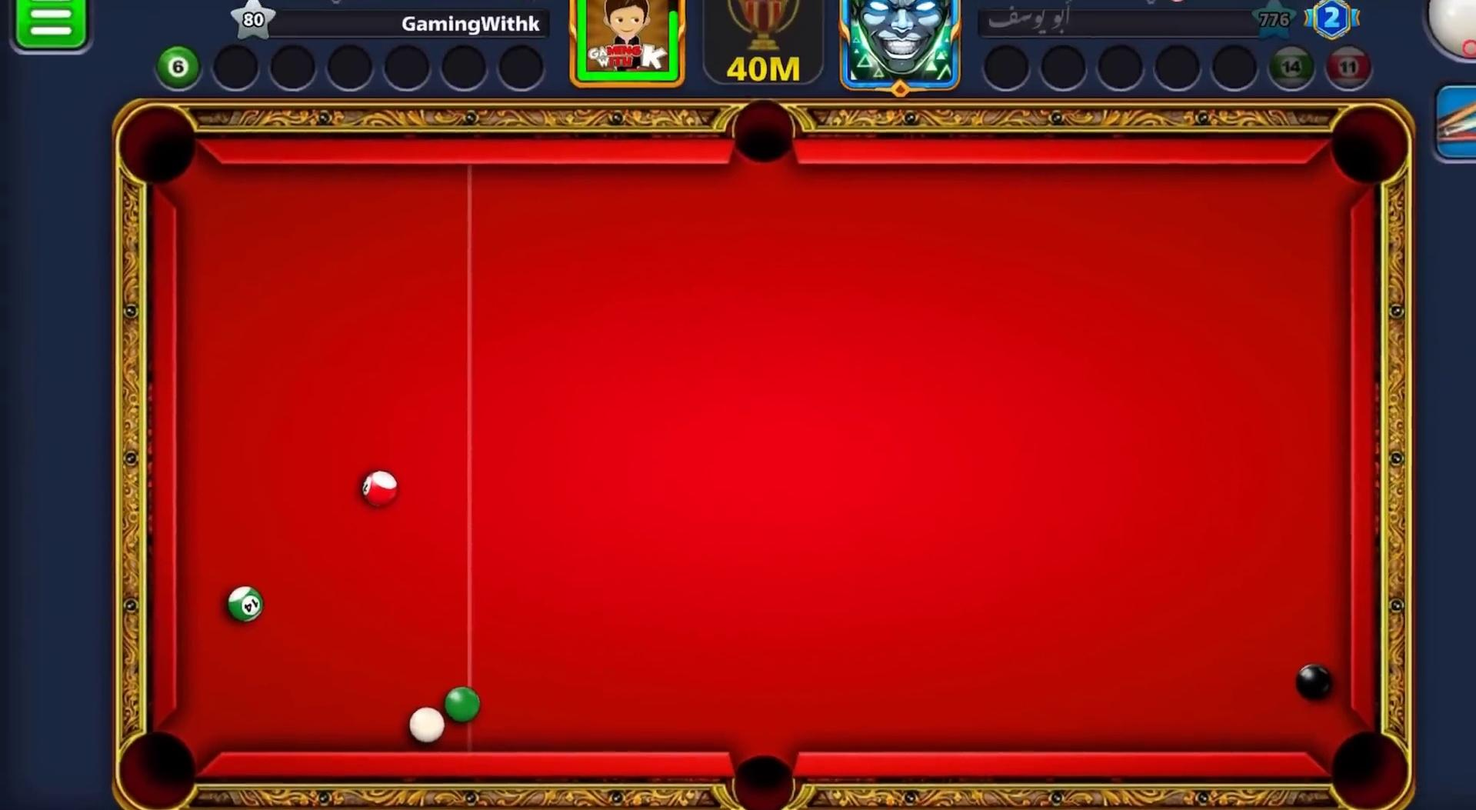Ball: (1288, 655, 1342, 705), (441, 681, 485, 726), (225, 581, 265, 625), (357, 468, 397, 510)
Hole: (1314, 92, 1416, 205), (1308, 715, 1420, 809), (118, 103, 200, 184), (117, 728, 199, 808), (732, 97, 795, 168), (728, 752, 798, 809)
Play_Area: (184, 161, 1347, 752)
Spin: (1420, 0, 1475, 72)
White: (399, 703, 447, 746)
